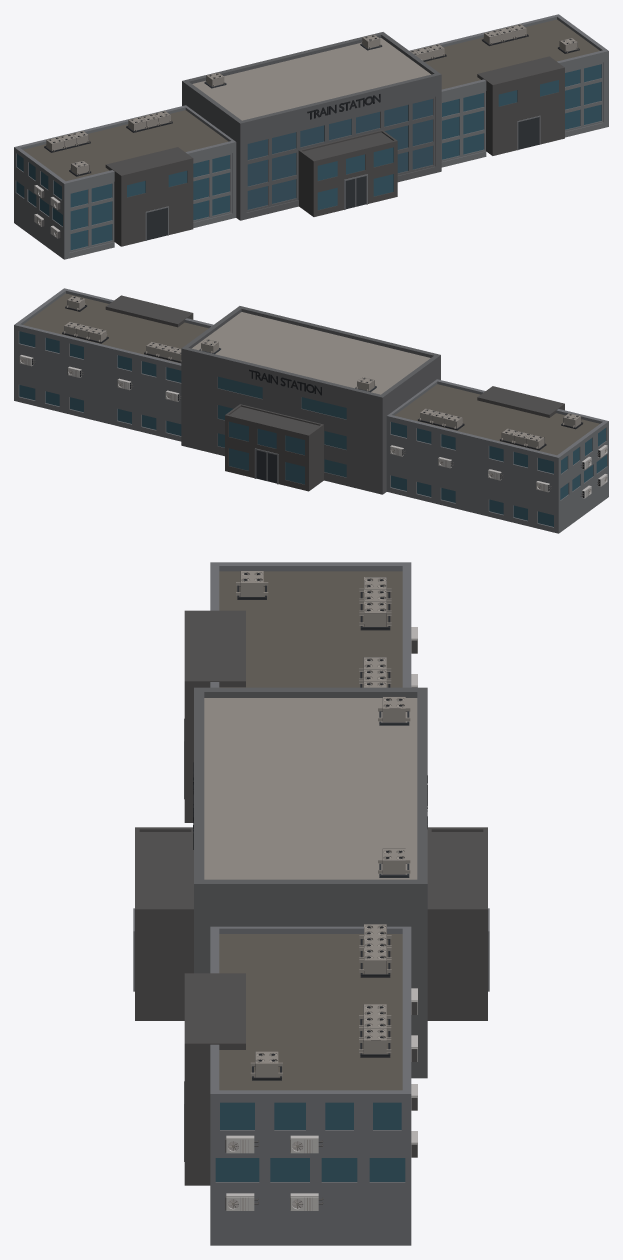
Rendered from TrainStation_1.fbx.
3 renders of one model, top to bottom at view 1: azimuth 30°, elevation 25°; view 2: azimuth 150°, elevation 25°; view 3: azimuth 270°, elevation 25°, orthographic. The views are drawn at different scales.
Parts seen in each view (by area): view 1: TrainStation_1; view 2: TrainStation_1; view 3: TrainStation_1.
Boxes of the visible parts, x1,y1,x2,y2 form: TrainStation_1: [14, 14, 608, 259]; TrainStation_1: [14, 288, 608, 533]; TrainStation_1: [133, 562, 489, 1245].
Bounding box in the file's own units: 6532 × 1156 × 1831.
